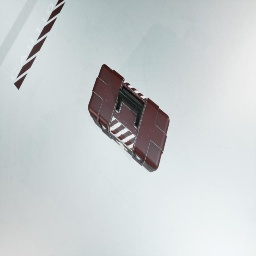FirstAidBox ,: (88, 64, 170, 172)
